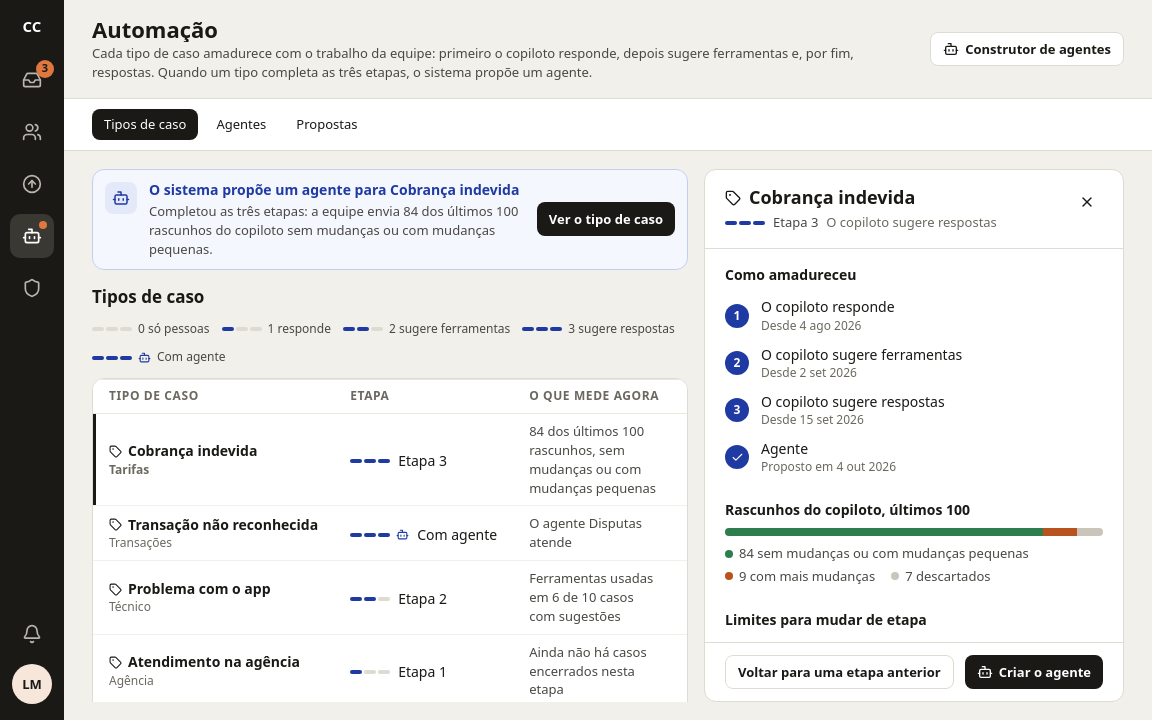
Test: /supervision/automation ("Automatización", slice 22) › proposes an agent in Portuguese for a person who reads Portuguese
Click the button "Criar o agente" at (1034, 672), box x1=965 y1=655 x2=1103 y2=689
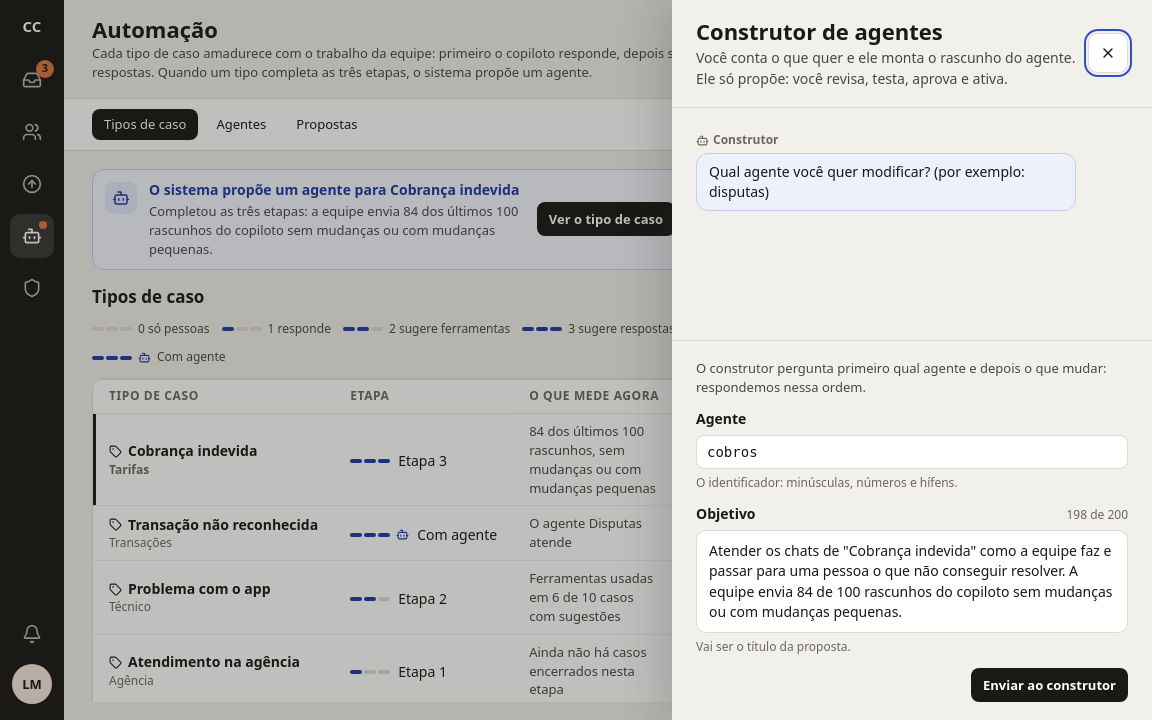
Now the text "Qual agente você quer modificar? (por exemplo: disputas)" is shown, box x1=696 y1=153 x2=1076 y2=211
Click the button "Enviar ao construtor" at (1050, 685), box x1=971 y1=668 x2=1128 y2=702
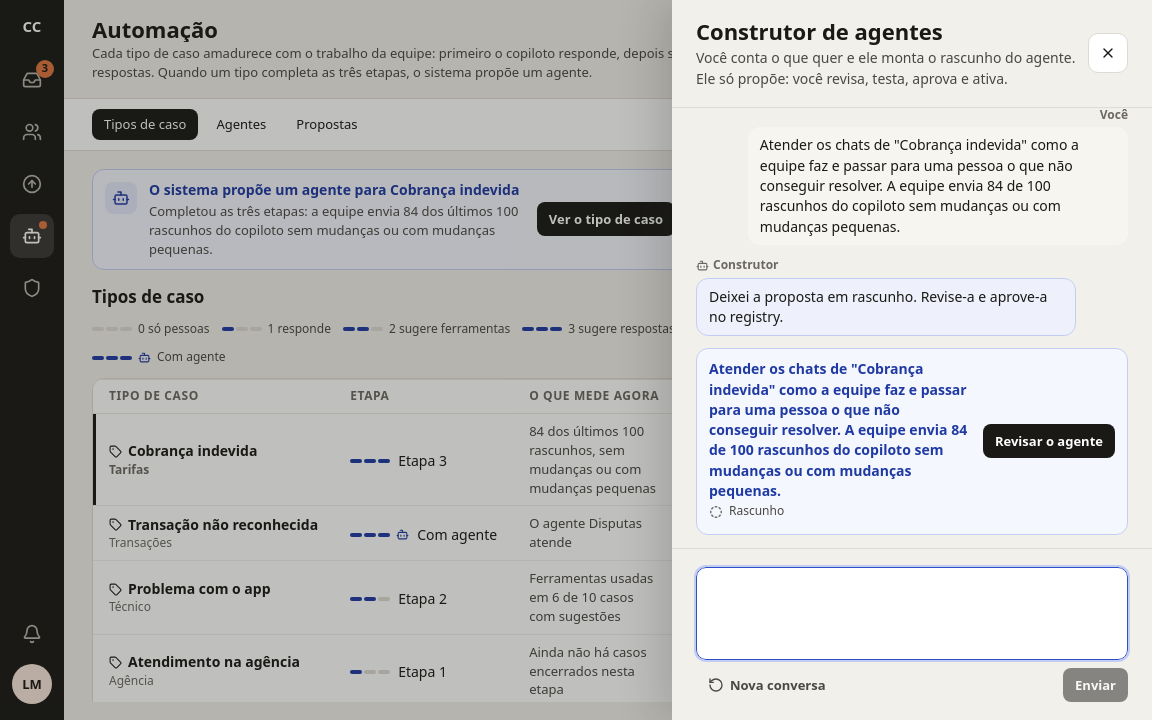
Now the text "Deixei a proposta em rascunho. Revise-a e aprove-a no registry." is shown, box x1=696 y1=278 x2=1076 y2=336
Now the link "Revisar o agente" is shown, box x1=983 y1=424 x2=1115 y2=458
